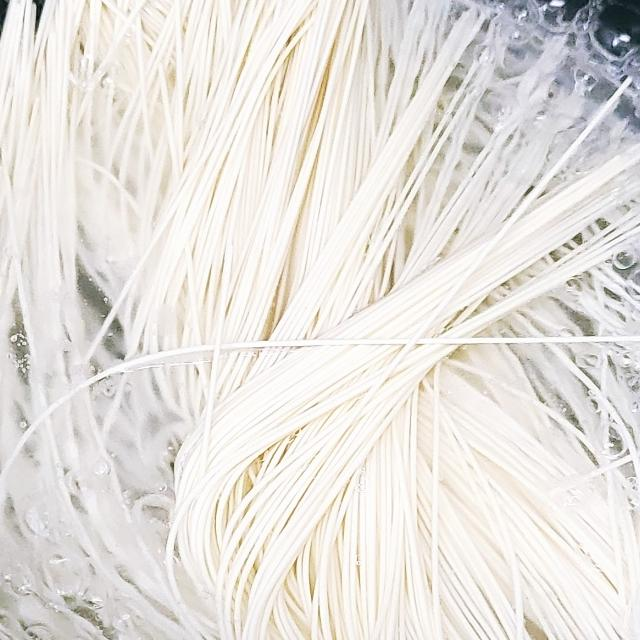noodles: (33, 0, 640, 640)
